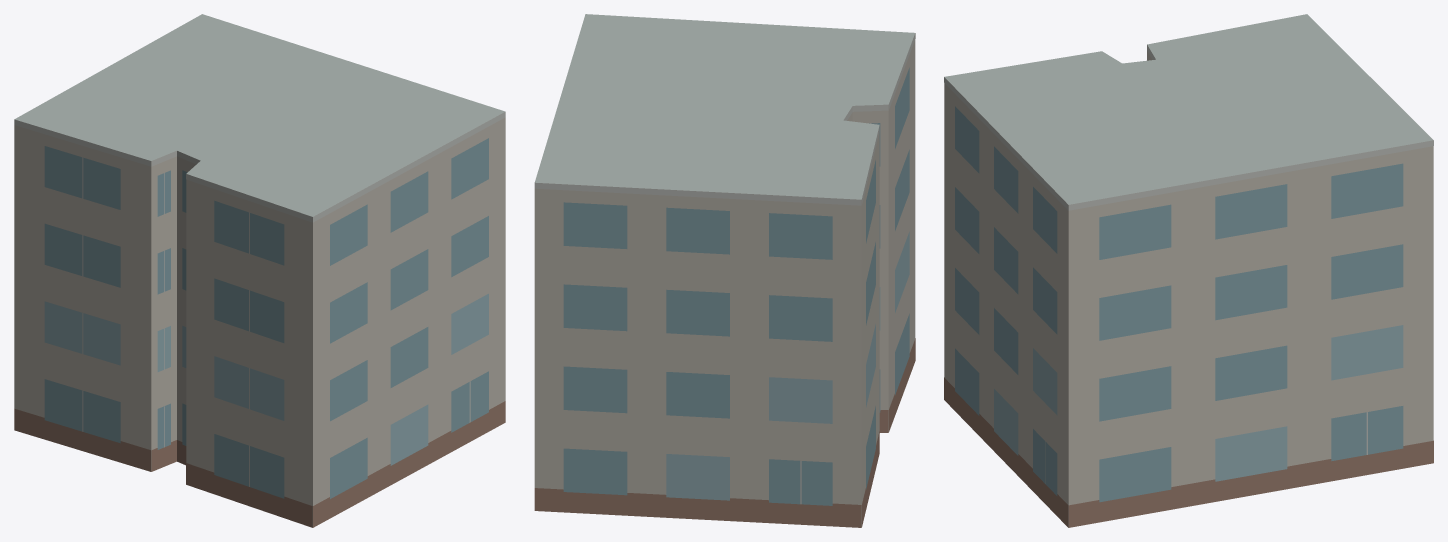
Rendered from survey-upis-32722765.glb.
The picture shows the model from 3 angles, left to right: view 1: azimuth 30°, elevation 25°; view 2: azimuth 150°, elevation 25°; view 3: azimuth 270°, elevation 25°; orthographic projection. The views are drawn at different scales.
Visible parts, largest first — view 1: survey-upis-32722765.tmp; view 2: survey-upis-32722765.tmp; view 3: survey-upis-32722765.tmp.
Boxes of the visible parts, <box> form: survey-upis-32722765.tmp: <box>14,14,505,527</box>; survey-upis-32722765.tmp: <box>534,14,915,527</box>; survey-upis-32722765.tmp: <box>944,14,1433,527</box>.
Bounding box in the file's own units: 17 × 13.4 × 18.42.
